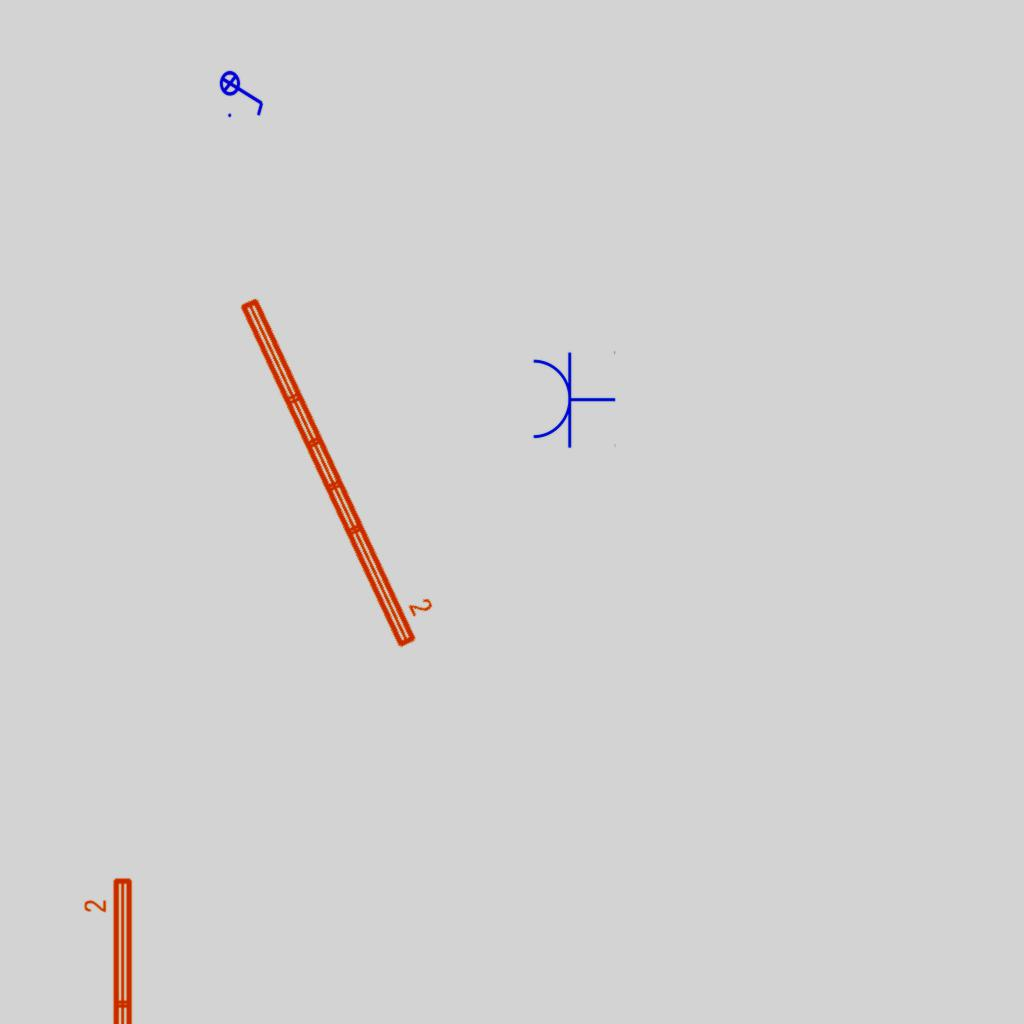Ambulanz_Pendelleuchte_LED: (232, 279, 447, 655), (82, 874, 138, 1024)
Ausschalter_beleuchtet: (219, 64, 267, 120)
Schukosteckdose_einfach: (529, 349, 616, 449)
